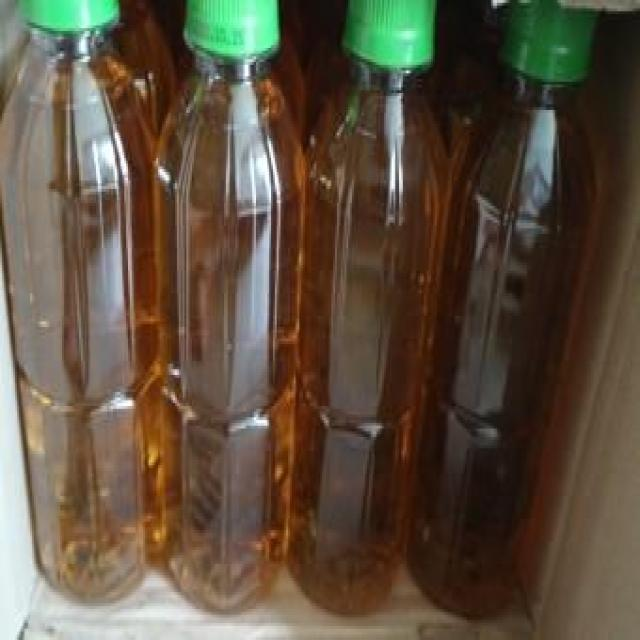bottle: (404, 5, 600, 618), (280, 3, 442, 617), (0, 3, 162, 603), (159, 2, 302, 614)
